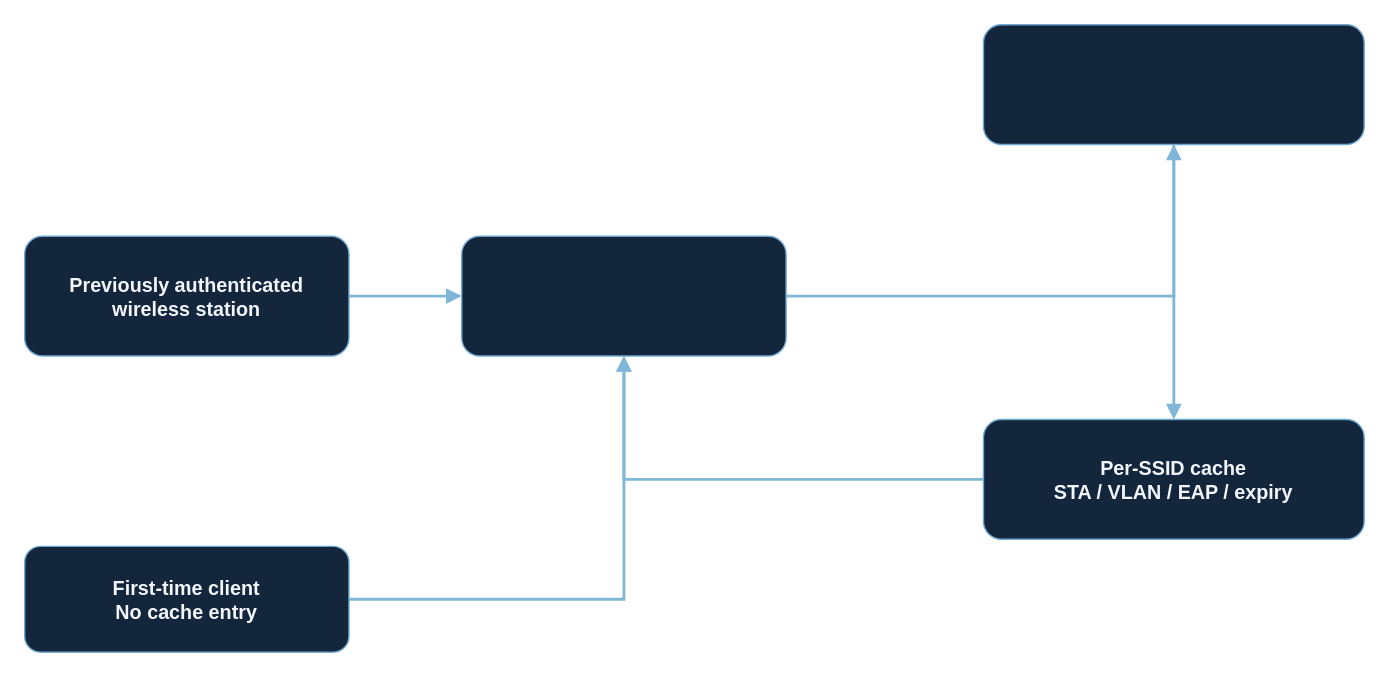
This 1389x677 diagram has some shape labels left out. Here are the shapes that lost their labels. From the top down, the centre of each, then its label:
point (1173, 84): RADIUS server PEAP hash + certificates
point (623, 295): FortiAP / VAP Survivability enabled
